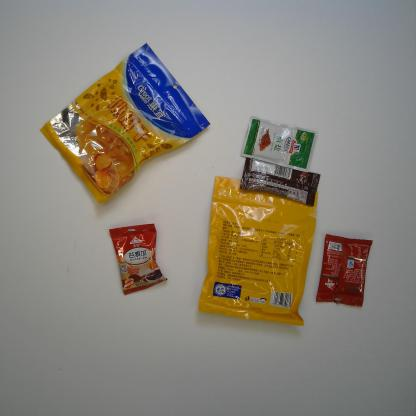Chocolate: (240, 156, 322, 209)
Dried Fruit: (38, 41, 213, 207), (196, 175, 318, 329)
Instant Drink: (315, 232, 374, 308), (108, 223, 169, 295)
Seasoner: (240, 114, 317, 172)
